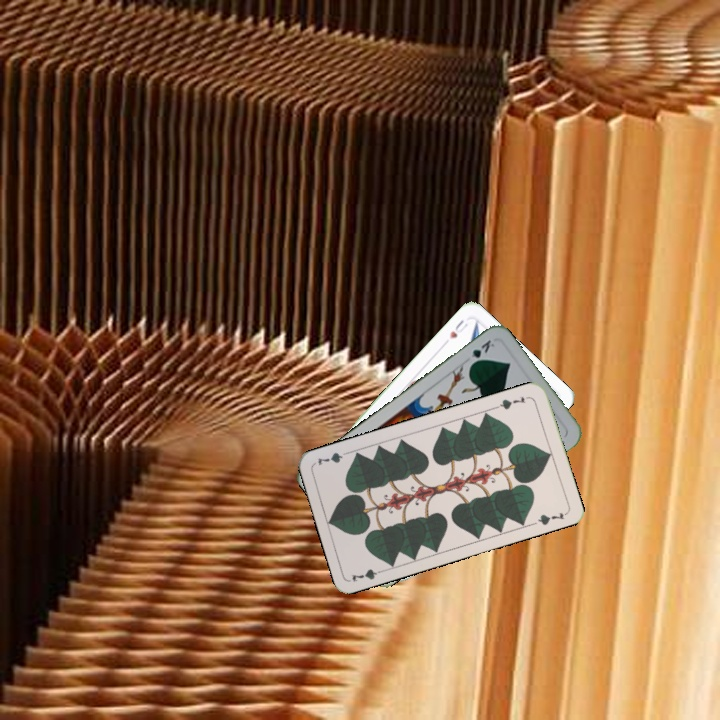G7: (347, 565, 388, 585), (492, 392, 528, 412)
GK: (465, 335, 497, 369)
HU: (445, 316, 471, 341)
